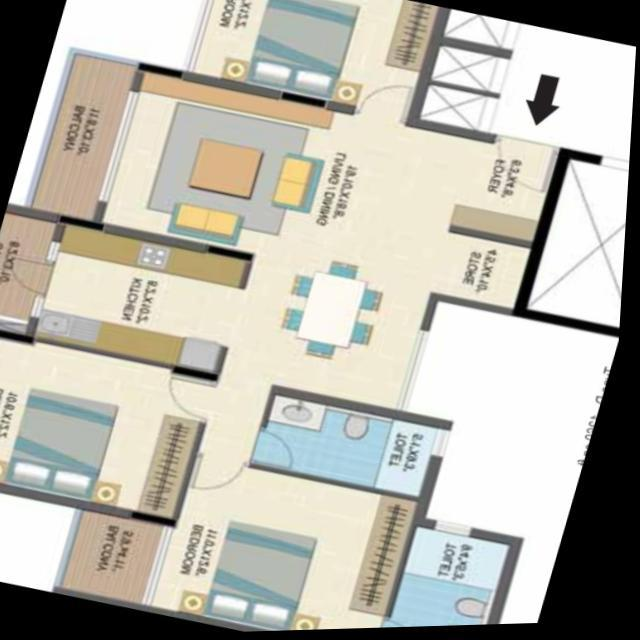Balcony-Sitout: (24, 48, 149, 231), (58, 497, 182, 613)
Bedroom: (0, 331, 222, 528), (182, 0, 445, 131)
Bedroom with Toilet: (158, 455, 525, 633)
Dining: (274, 255, 395, 371)
Enterance-Foyer: (470, 66, 580, 229)
Kitchen: (25, 214, 257, 381)
Living: (90, 61, 357, 274)
Toilet: (250, 388, 458, 508), (388, 515, 531, 630)
Utility: (0, 202, 75, 348)
